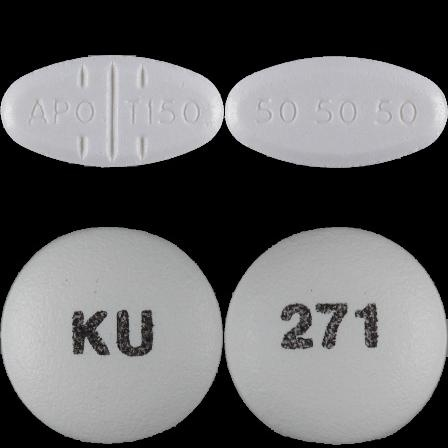68084-608: (0, 0, 224, 224)
